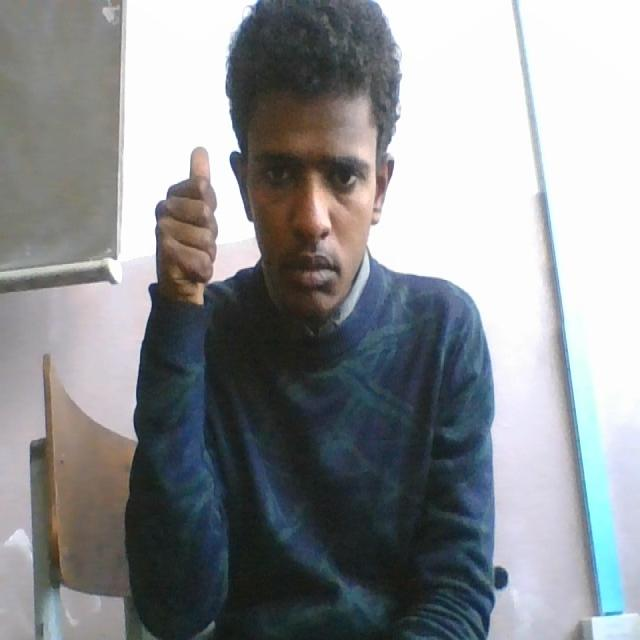agot: (143, 92, 280, 318)
